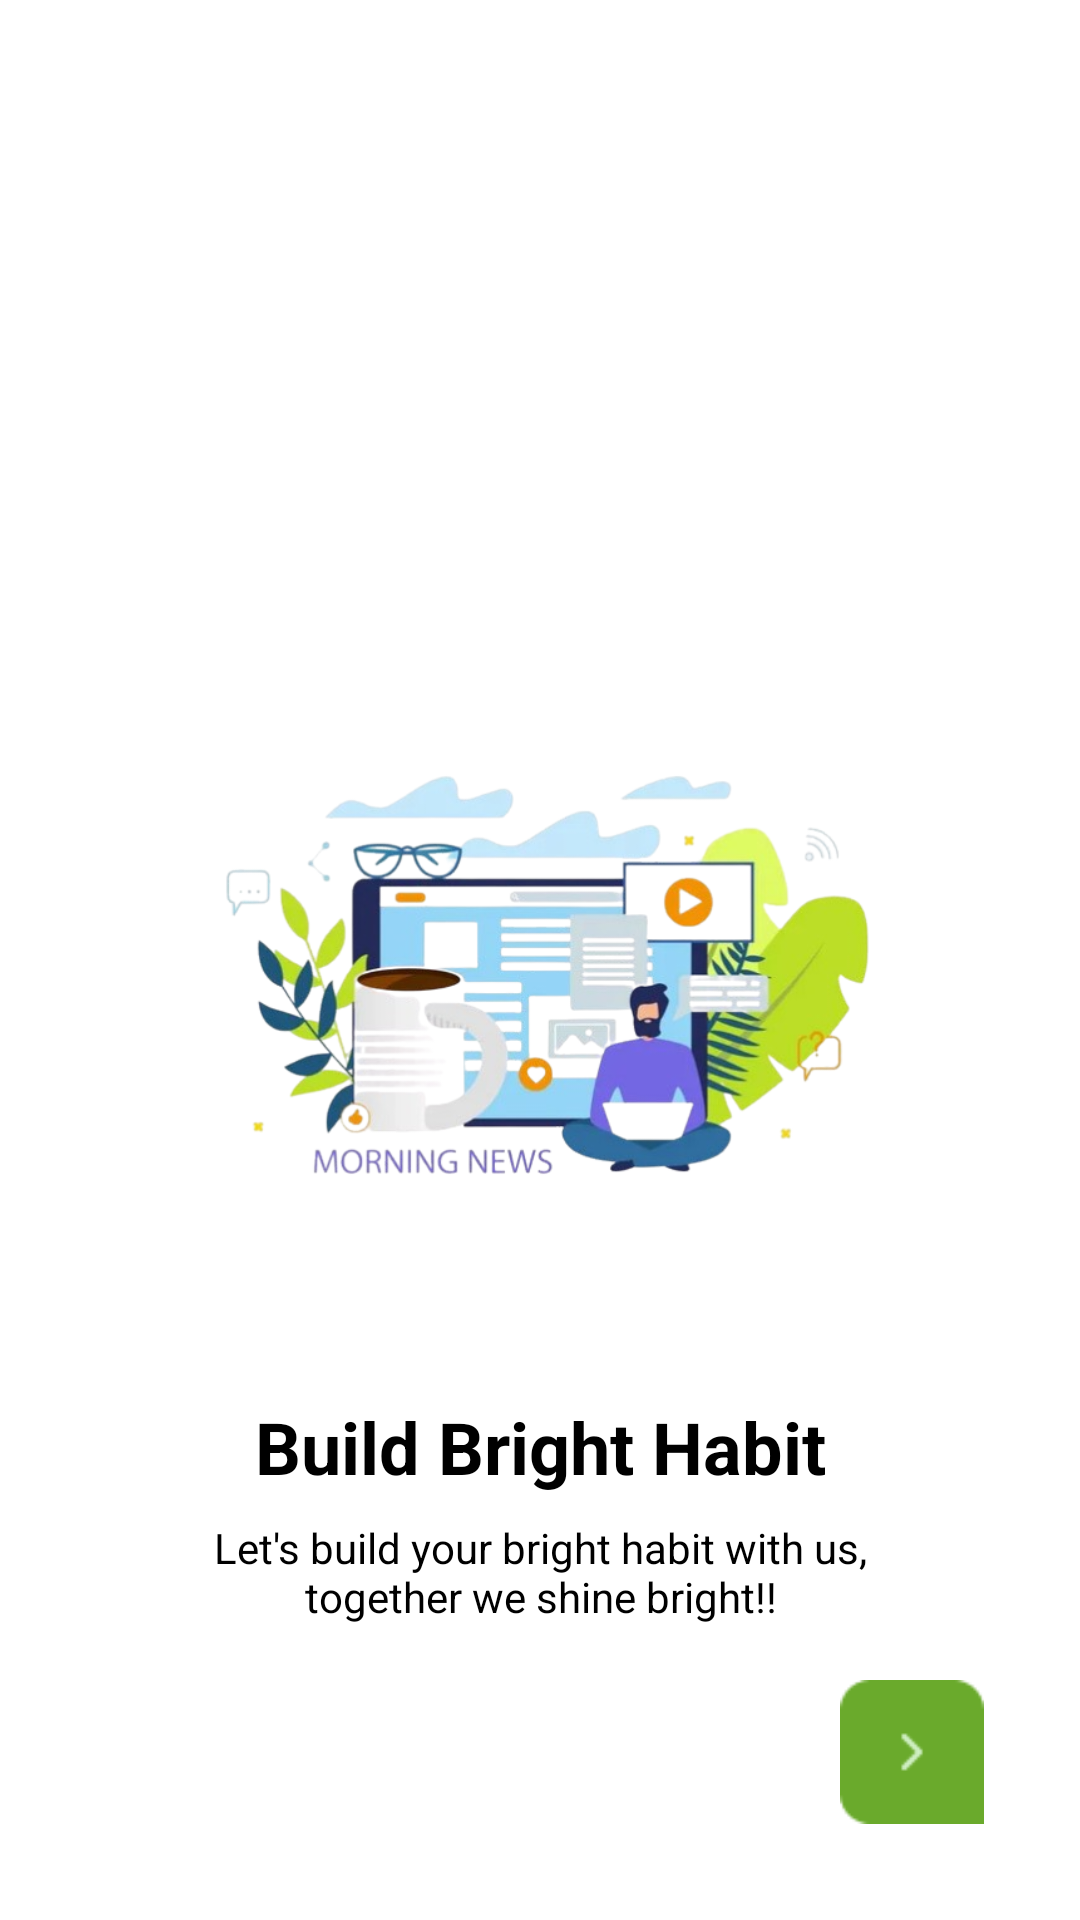

Locate icon controls on the screen. Image size 1080w x 1920h, boxes as (x1, y1, x2, y2).
next ob: (840, 1680, 984, 1824)
